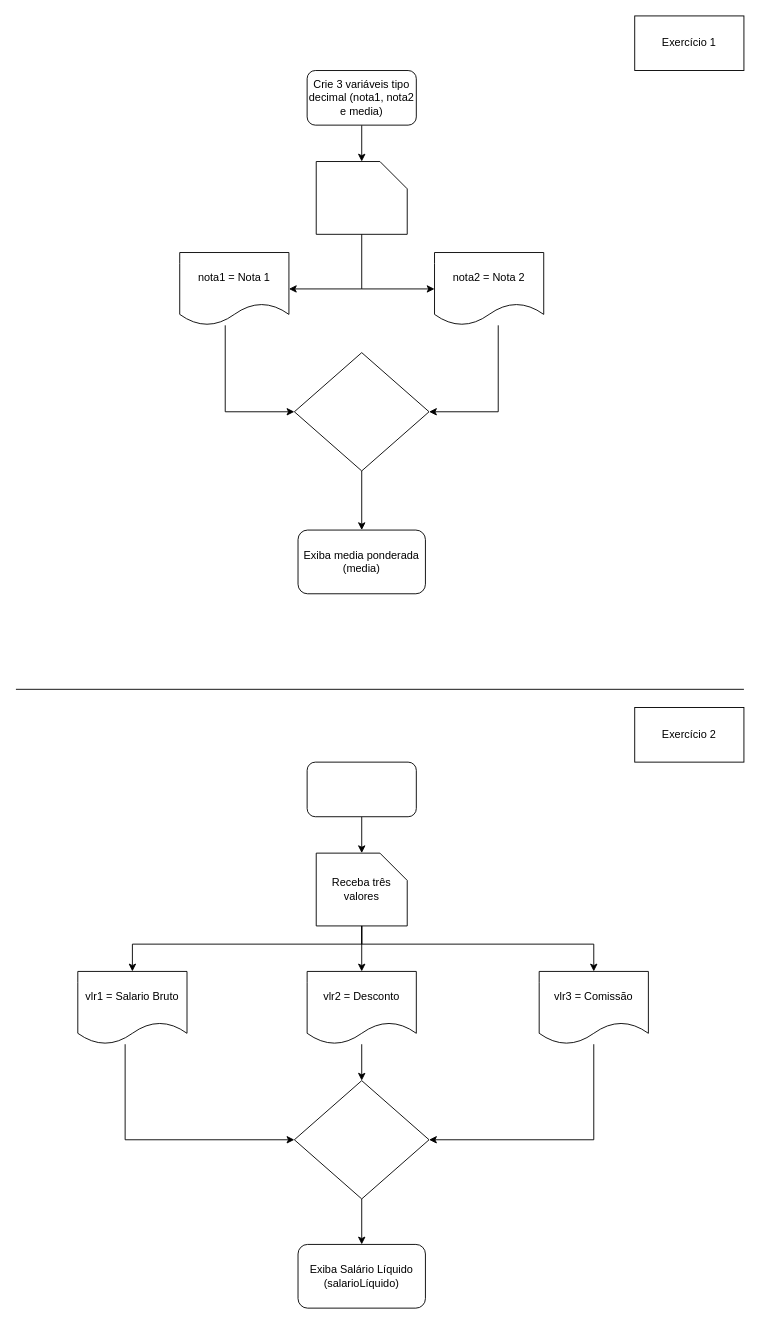
Some shapes in this 761 by 1324 pixel diagram are drawn without their labels. The shapes that lost their labels are listed below. From the top down, each one's box as (x1, y1, x2, y2) in pixels, then its label:
(315, 161, 407, 234): Receba dois valores
(293, 352, 429, 471): media = (nota1 * 0.4) + (nota2 * 0.6)
(306, 761, 416, 817): Crie 4 variáveis tipo decimal (vlr1, vlr2, vlr3, salarioLiquido)
(293, 1080, 429, 1199): salarioLiquido = vlr1 - vlr2 + vlr3
